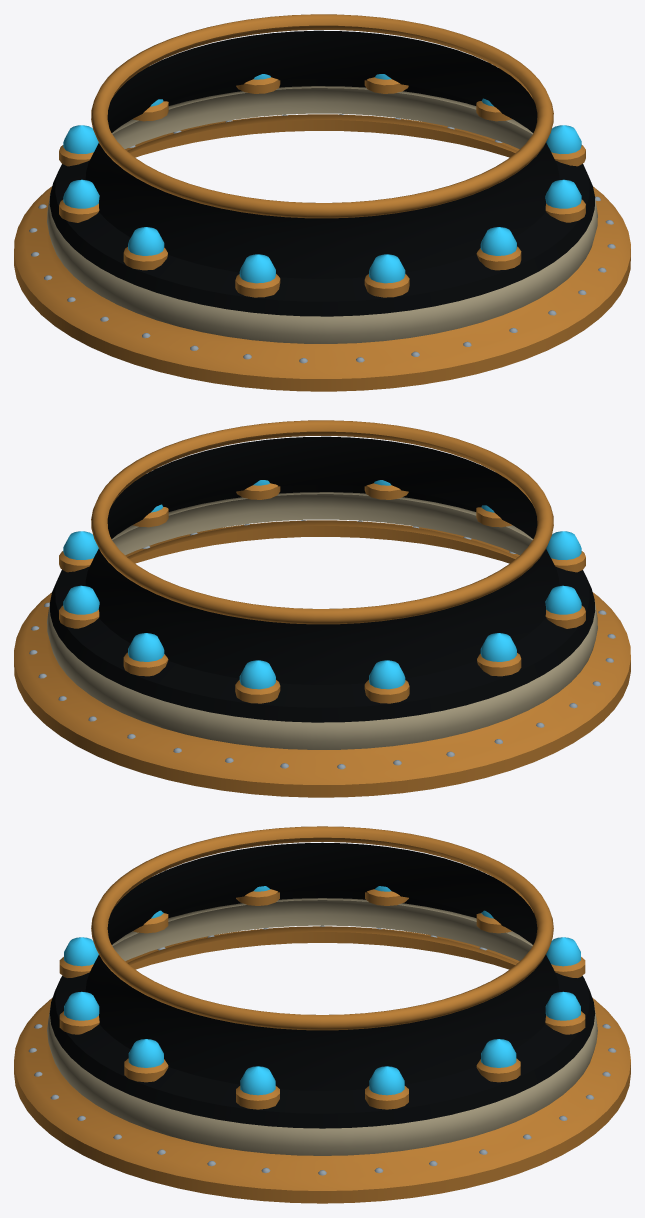
Rendered from bumper-base.dae.
The picture shows the model from 3 angles, top to bottom: view 1: azimuth 30°, elevation 25°; view 2: azimuth 150°, elevation 25°; view 3: azimuth 270°, elevation 25°; orthographic projection.
Parts seen in each view (by area): view 1: dark, accent, rubber, glow, metal; view 2: dark, accent, rubber, glow, metal; view 3: dark, accent, rubber, glow, metal.
Part boxes in pixels (bbox=[...]): dark: bbox=[49, 30, 595, 316]; accent: bbox=[14, 14, 630, 391]; rubber: bbox=[47, 86, 597, 343]; glow: bbox=[63, 74, 581, 283]; metal: bbox=[29, 114, 615, 363]; dark: bbox=[49, 436, 595, 722]; accent: bbox=[14, 420, 630, 797]; rubber: bbox=[47, 492, 597, 749]; glow: bbox=[63, 480, 581, 689]; metal: bbox=[29, 520, 615, 769]; dark: bbox=[49, 842, 595, 1128]; accent: bbox=[14, 826, 630, 1203]; rubber: bbox=[47, 898, 597, 1155]; glow: bbox=[64, 886, 580, 1095]; metal: bbox=[28, 925, 616, 1175].
Size of the model in its own units: 2.24 by 0.61 by 2.24.
